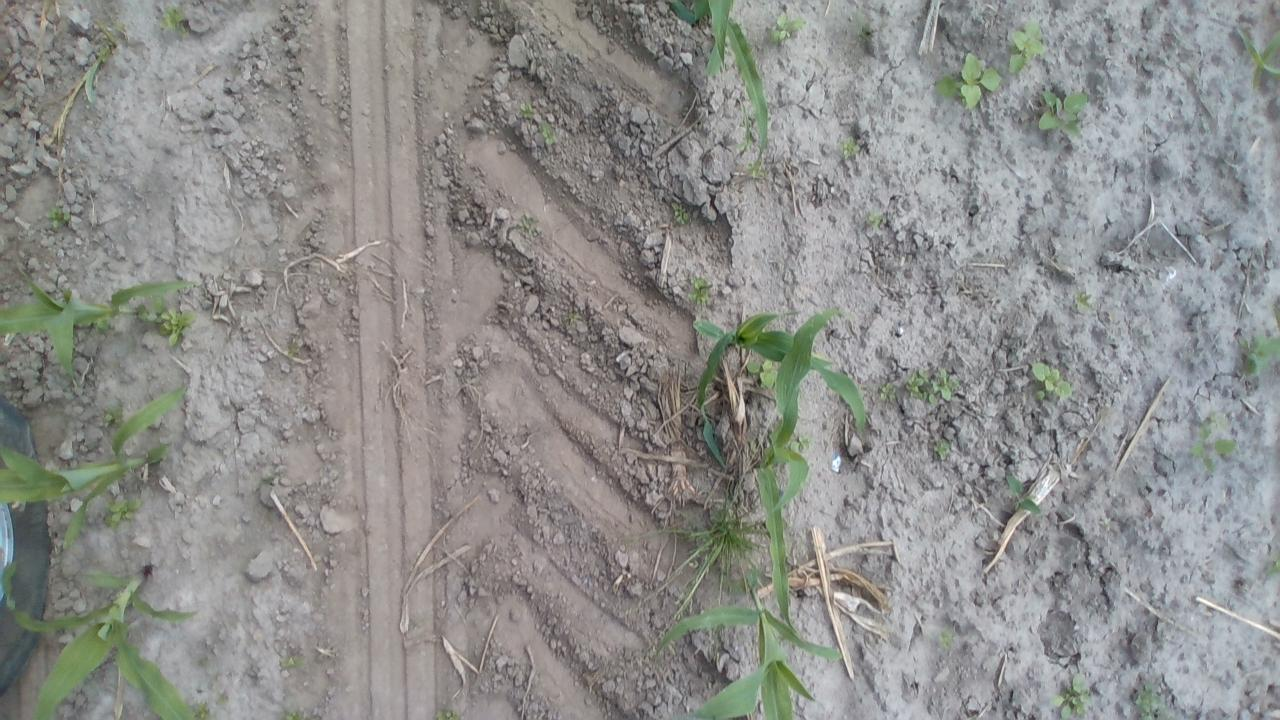Maize: (753, 307, 854, 636), (2, 558, 198, 720), (0, 384, 188, 546), (692, 308, 869, 470), (652, 569, 836, 720), (0, 266, 191, 390), (660, 0, 773, 174), (1236, 26, 1280, 86)
Weeds: (648, 472, 768, 612), (932, 52, 1002, 110), (1038, 86, 1086, 138), (1188, 424, 1236, 472), (1237, 330, 1280, 378), (1007, 21, 1045, 74), (906, 368, 958, 405), (1053, 672, 1093, 720), (1002, 474, 1041, 516), (1032, 362, 1072, 402), (1130, 682, 1170, 720), (158, 308, 196, 348), (100, 498, 142, 530), (768, 10, 806, 42), (746, 357, 776, 390), (158, 6, 188, 36), (734, 102, 752, 152), (136, 296, 168, 324), (688, 276, 712, 306), (787, 436, 816, 455), (46, 206, 70, 228), (839, 136, 861, 160), (190, 700, 216, 720), (936, 626, 956, 651), (1072, 290, 1094, 312), (672, 201, 692, 224), (744, 160, 766, 180), (520, 212, 538, 236), (104, 406, 123, 427), (538, 121, 554, 145), (866, 208, 885, 227), (880, 382, 898, 401), (1267, 552, 1280, 578), (856, 14, 870, 37), (934, 440, 950, 459), (278, 656, 302, 668), (1207, 412, 1226, 427), (280, 710, 308, 720), (520, 102, 536, 119), (436, 709, 459, 720), (96, 44, 110, 62), (94, 321, 113, 332), (218, 693, 230, 707), (567, 313, 582, 322), (114, 20, 125, 30), (749, 441, 758, 452), (1100, 518, 1110, 526)
